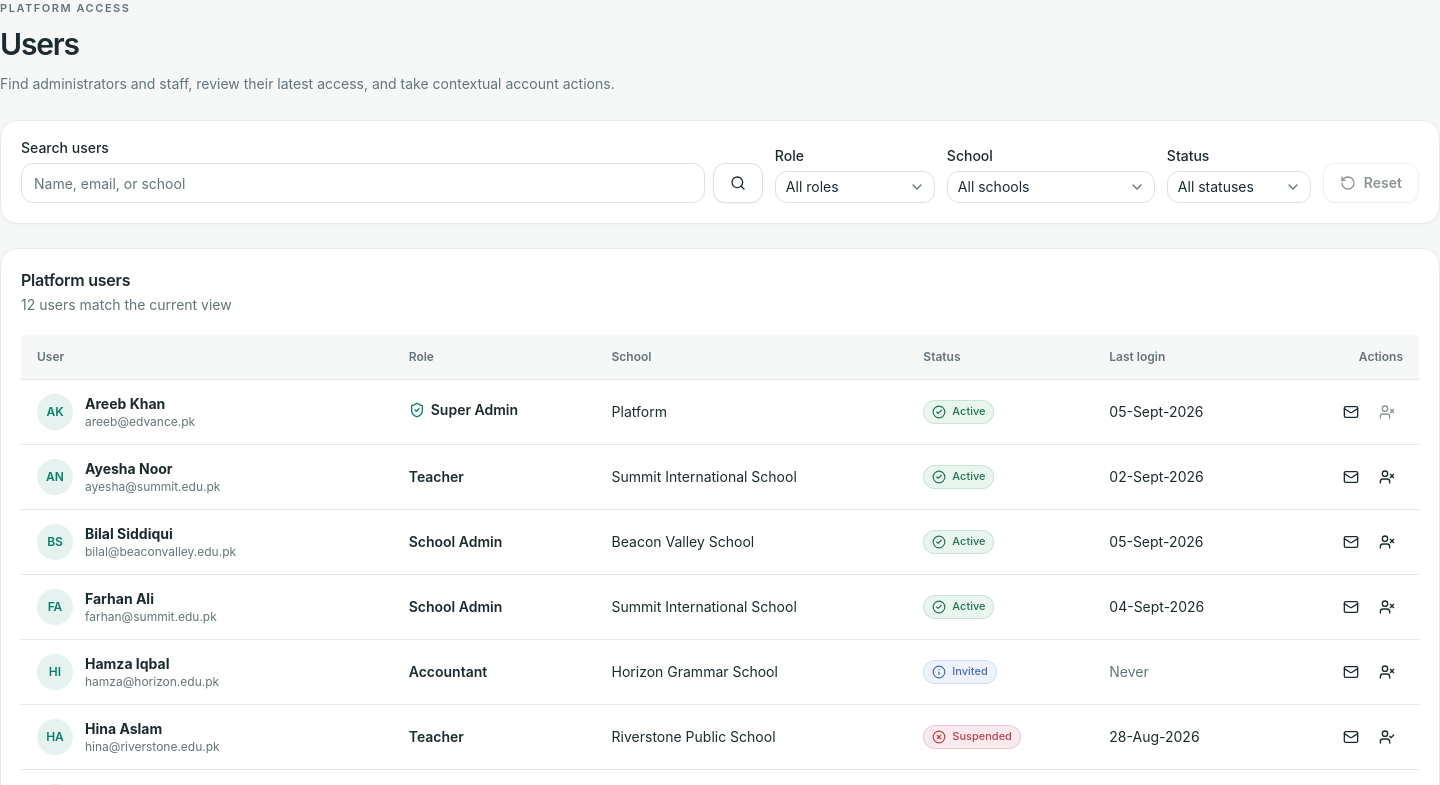
Test: UsersList › filters users by search, role, school, and status
Expected: the text "Areeb Khan" is shown, x1=85 y1=395 x2=165 y2=412
Type "Crescent" into the field labelled "Search users" at {"x": 363, "y": 184}, box x1=21 y1=164 x2=705 y2=204
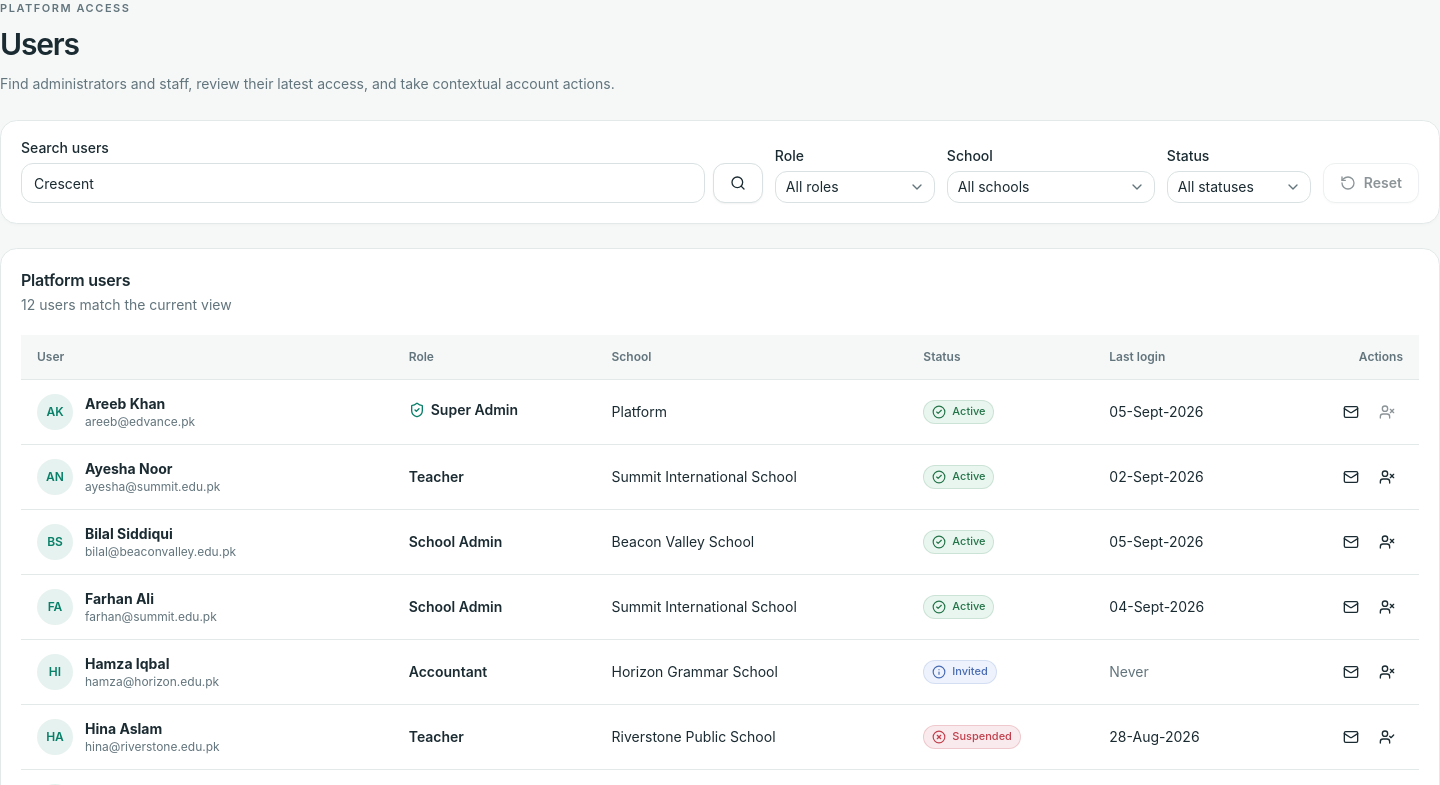
Click the button named "Search users" at {"x": 738, "y": 184}, box x1=713 y1=164 x2=763 y2=204
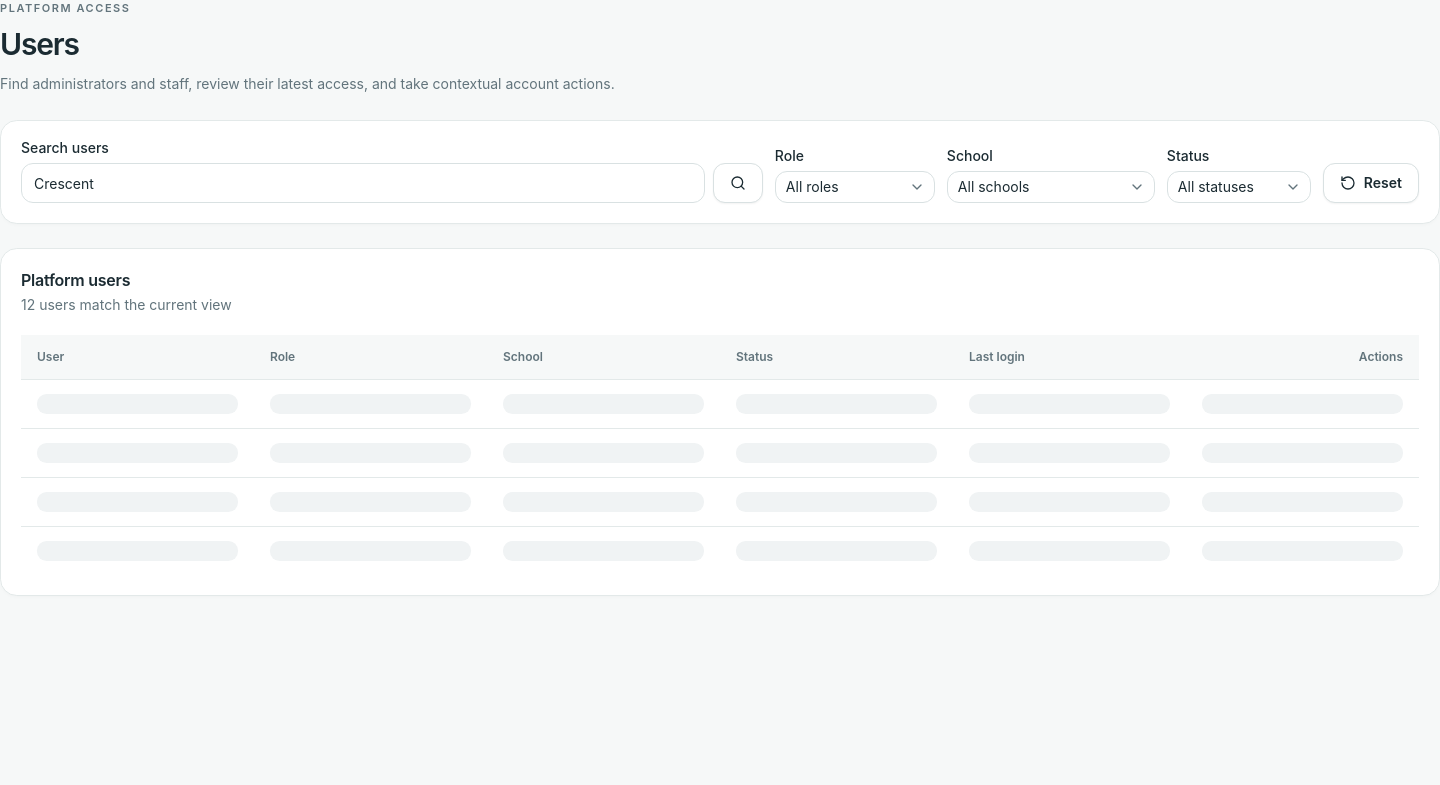
Select "Teacher" in the dropdown labelled "Role" at {"x": 855, "y": 188}, box x1=775 y1=172 x2=935 y2=204
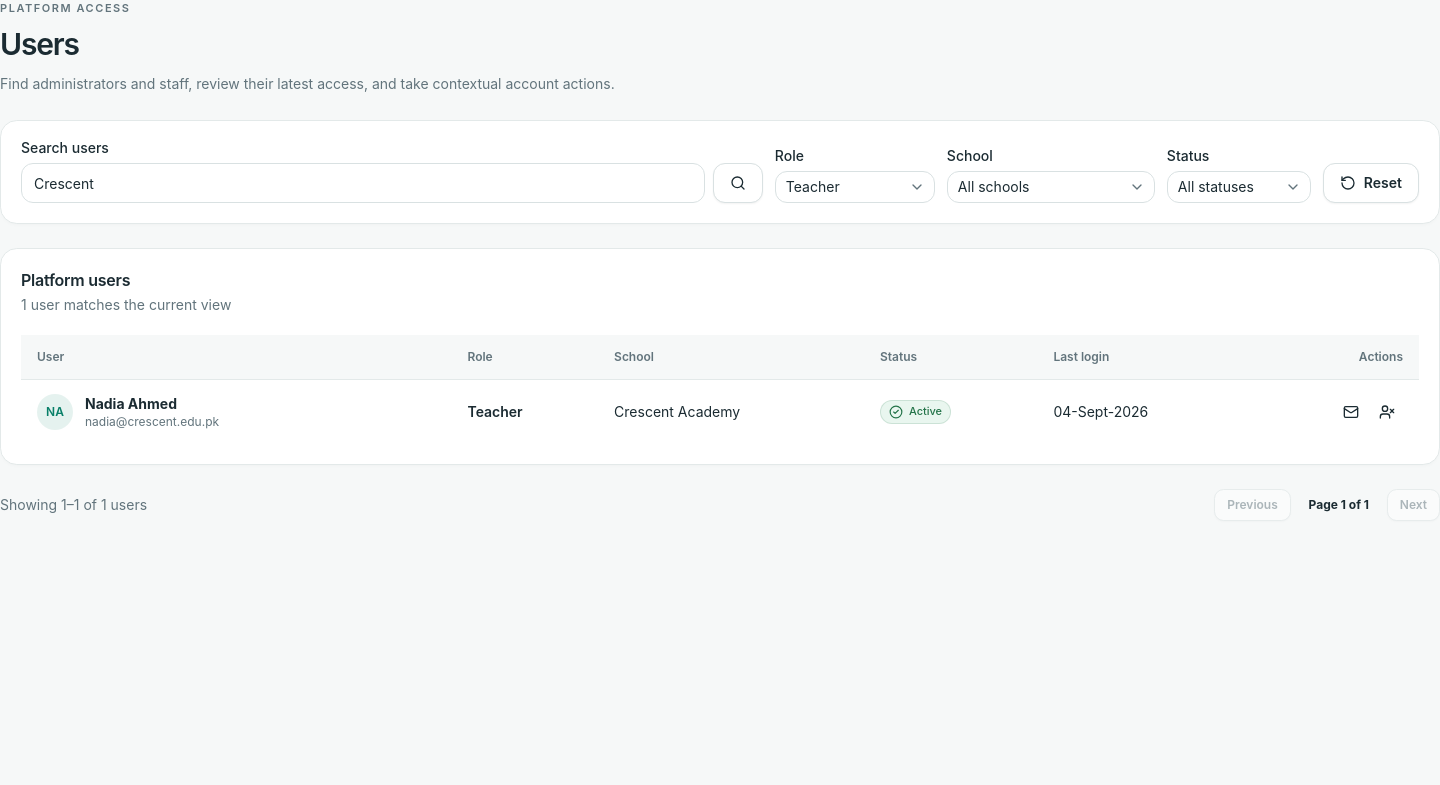
Expected: the text "Nadia Ahmed" is shown, x1=85 y1=395 x2=177 y2=412
